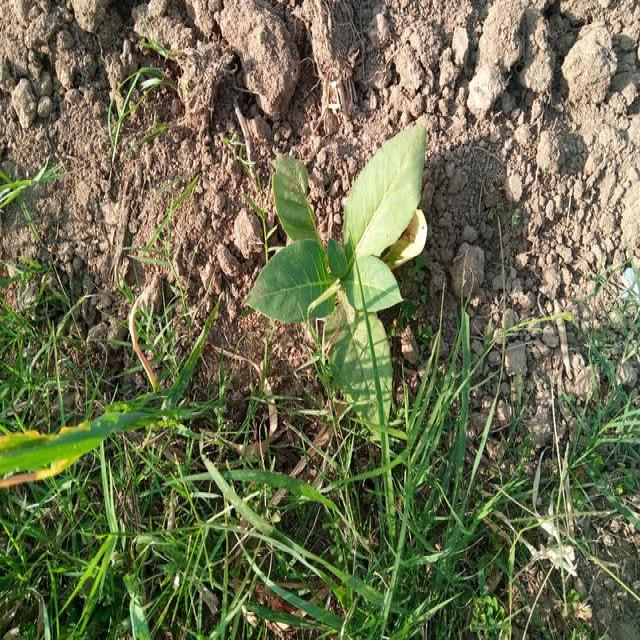crop: (245, 117, 426, 436)
